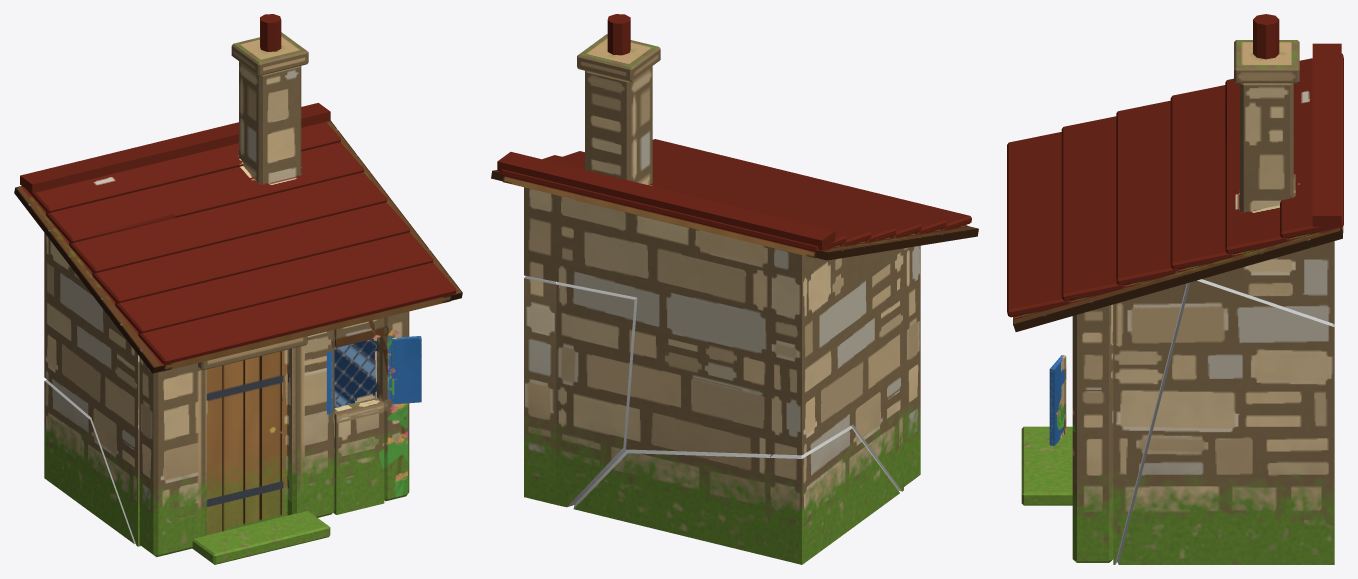
Rendered from Kit_Props_Shed_Fractured.fbx.
The picture shows the model from 3 angles, left to right: view 1: azimuth 30°, elevation 25°; view 2: azimuth 150°, elevation 25°; view 3: azimuth 270°, elevation 25°; orthographic projection. The views are drawn at different scales.
Visible parts, largest first — view 1: Kit_Props_Shed_frag_07, Kit_Props_Shed_frag_04, Kit_Props_Shed_frag_02, Kit_Props_Shed_frag_01, Kit_Props_Shed_frag_03, Kit_Props_Shed_frag_05; view 2: Kit_Props_Shed_frag_03, Kit_Props_Shed_frag_01, Kit_Props_Shed_frag_05, Kit_Props_Shed_frag_06, Kit_Props_Shed_frag_07, Kit_Props_Shed_frag_04, Kit_Props_Shed_frag_02; view 3: Kit_Props_Shed_frag_06, Kit_Props_Shed_frag_04, Kit_Props_Shed_frag_01, Kit_Props_Shed_frag_02, Kit_Props_Shed_frag_07, Kit_Props_Shed_frag_03.
Part boxes in pixels (x1,y1,x2,y2): Kit_Props_Shed_frag_07: [14, 186, 323, 564]; Kit_Props_Shed_frag_04: [227, 120, 462, 506]; Kit_Props_Shed_frag_02: [146, 193, 368, 538]; Kit_Props_Shed_frag_01: [154, 14, 384, 199]; Kit_Props_Shed_frag_03: [20, 143, 206, 416]; Kit_Props_Shed_frag_05: [44, 380, 135, 544]; Kit_Props_Shed_frag_03: [626, 195, 874, 455]; Kit_Props_Shed_frag_01: [497, 14, 704, 297]; Kit_Props_Shed_frag_05: [573, 426, 899, 564]; Kit_Props_Shed_frag_06: [524, 276, 637, 507]; Kit_Props_Shed_frag_07: [806, 193, 978, 491]; Kit_Props_Shed_frag_04: [491, 139, 793, 191]; Kit_Props_Shed_frag_02: [696, 173, 878, 215]; Kit_Props_Shed_frag_06: [1117, 279, 1334, 564]; Kit_Props_Shed_frag_04: [1007, 169, 1342, 564]; Kit_Props_Shed_frag_01: [1177, 14, 1343, 323]; Kit_Props_Shed_frag_02: [1007, 125, 1239, 505]; Kit_Props_Shed_frag_07: [1007, 86, 1220, 488]; Kit_Props_Shed_frag_03: [1205, 43, 1343, 150].
Size of what is drawn, in the model's own units: 2.9 by 3.88 by 2.31.
